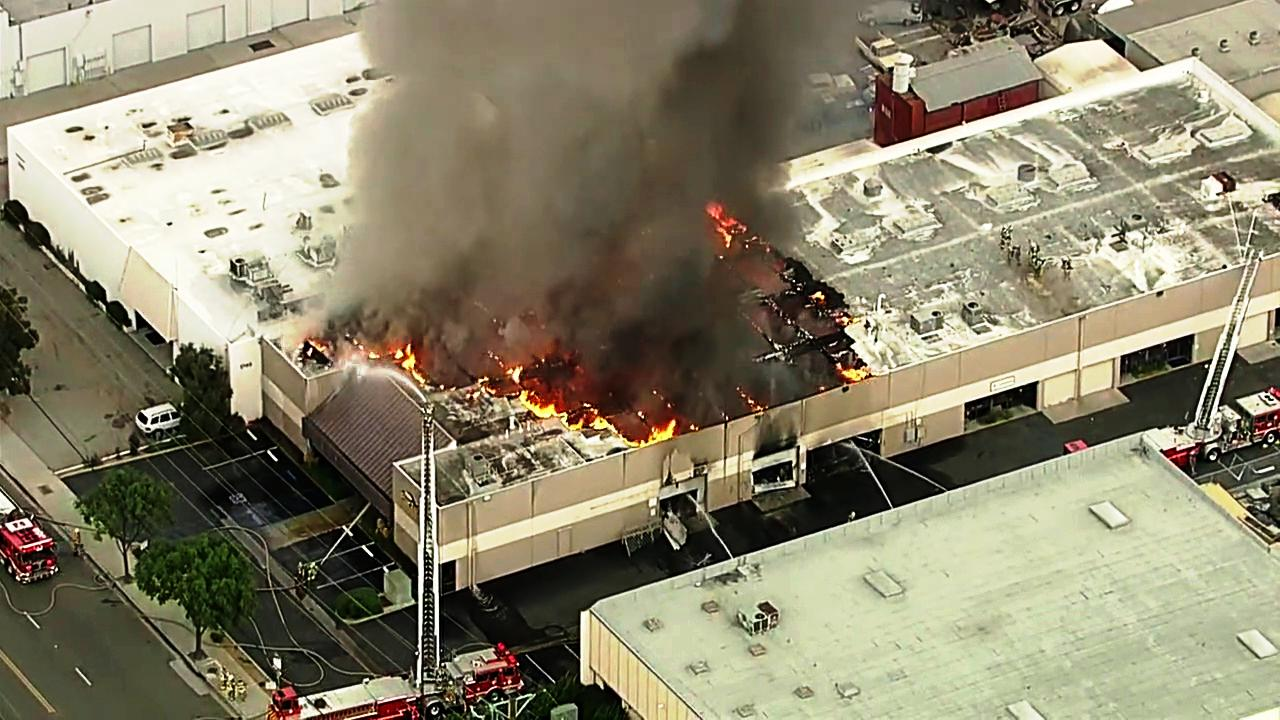smoke: (451, 0, 705, 360)
